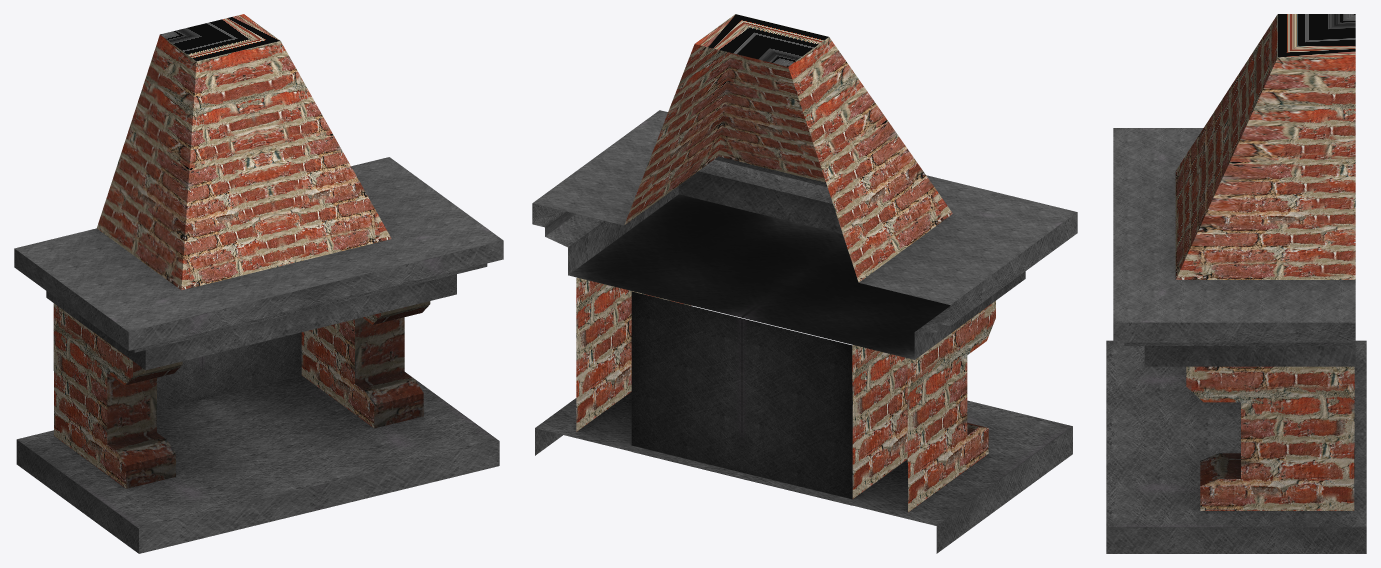
Rendered from fireplace.fbx.
3 views of the same model, side by side, from view 1: azimuth 30°, elevation 25°; view 2: azimuth 150°, elevation 25°; view 3: azimuth 270°, elevation 25° (orthographic). The views are drawn at different scales.
Visible parts, largest first — view 1: Chimenea_bottom.001; view 2: Chimenea_bottom.001; view 3: Chimenea_bottom.001.
Part boxes in pixels (box(x1,y1,x2,y2)): Chimenea_bottom.001: box(14, 14, 503, 553); Chimenea_bottom.001: box(532, 14, 1077, 553); Chimenea_bottom.001: box(1106, 14, 1366, 553).
Bounding box in the file's own units: 13.62 × 13.87 × 7.7.
